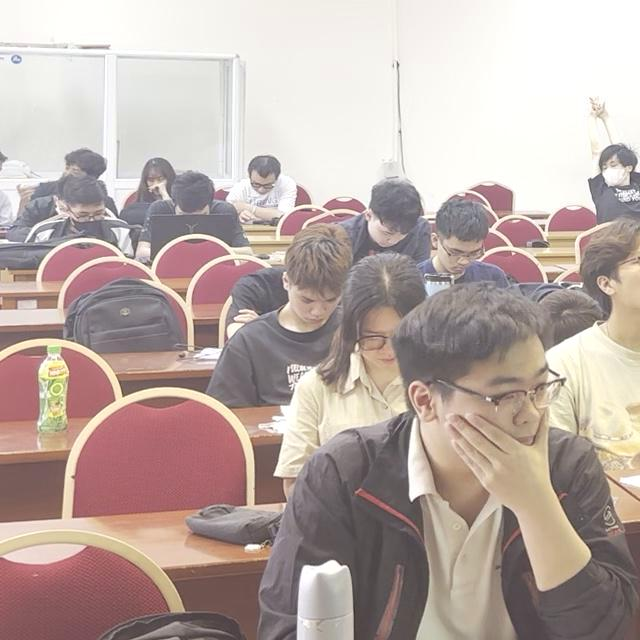Looking away: (282, 274, 341, 327), (432, 223, 482, 275), (365, 208, 405, 250), (67, 200, 107, 232), (147, 168, 169, 198)
Looking forward: (438, 327, 552, 446)
Phone use: (227, 158, 299, 227)
Raising hand: (586, 93, 638, 225)
